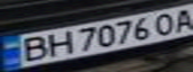0: (93, 21, 118, 48)
6: (130, 15, 157, 42)
7: (72, 25, 100, 52), (112, 18, 136, 45)
A: (169, 6, 193, 33)
B: (12, 34, 51, 63)
H: (42, 29, 75, 57)
O: (148, 10, 184, 36)
